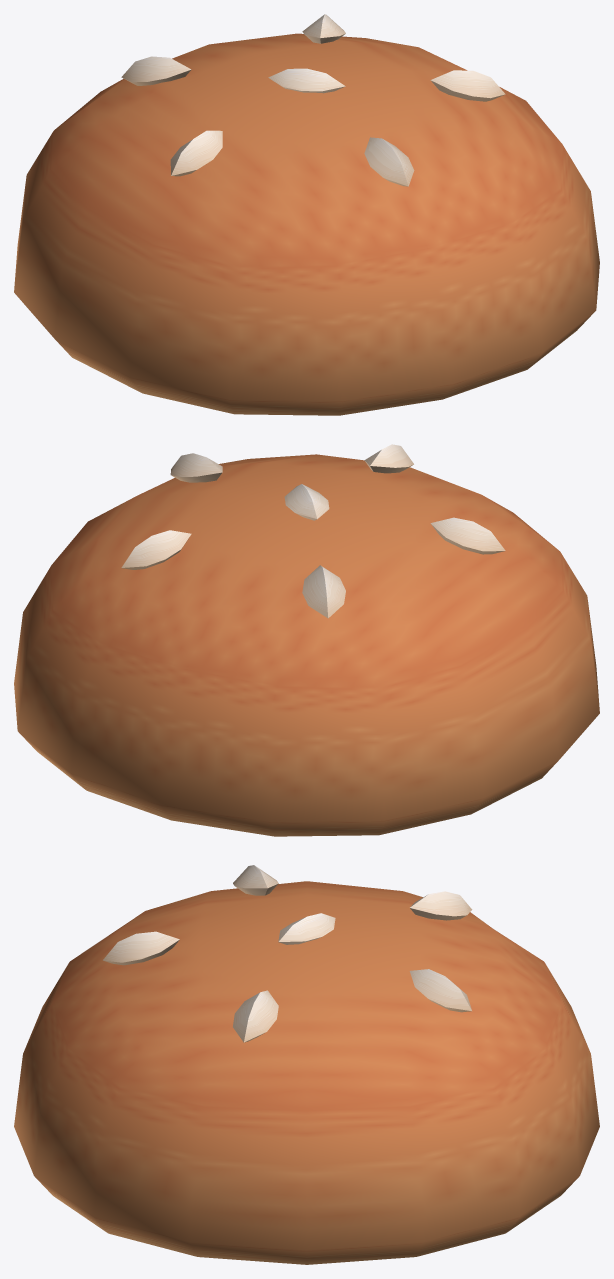
File: food_ingredient_bun_top.gltf
3 renders of one model, top to bottom at view 1: azimuth 30°, elevation 25°; view 2: azimuth 150°, elevation 25°; view 3: azimuth 270°, elevation 25°, orthographic.
Visible parts, largest first — view 1: food_ingredient_bun_top; view 2: food_ingredient_bun_top; view 3: food_ingredient_bun_top.
Boxes of the visible parts, x1,y1,x2,y2 form: food_ingredient_bun_top: (14, 14, 599, 415); food_ingredient_bun_top: (14, 444, 599, 836); food_ingredient_bun_top: (14, 865, 599, 1264).
Size of the model in its own units: 0.7 by 0.3072 by 0.7.
1 material, 1 textured.
